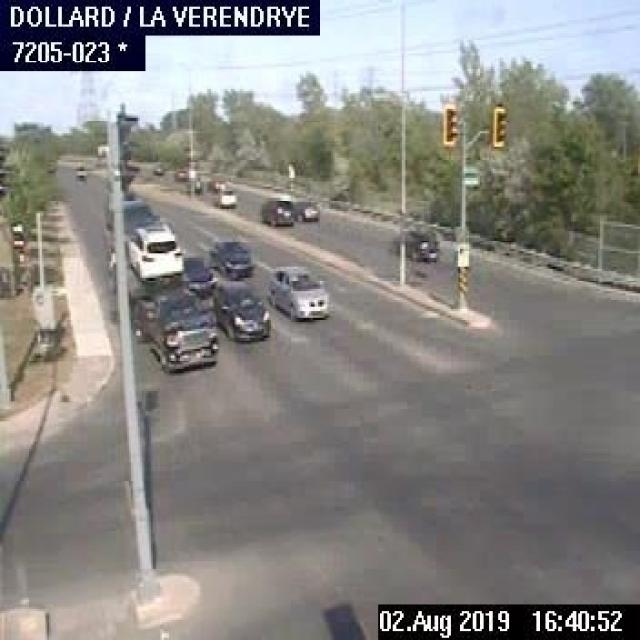vehicle: (122, 282, 214, 373), (211, 276, 274, 341), (125, 218, 184, 283), (268, 261, 326, 319), (210, 238, 256, 280), (392, 224, 440, 264), (256, 193, 292, 227), (209, 175, 238, 209), (172, 164, 204, 193), (293, 198, 321, 222)
